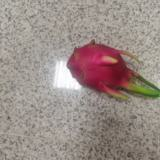pitaya: (68, 40, 160, 102)
